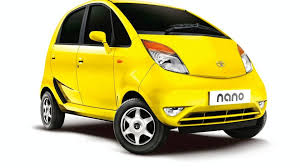Nano: (39, 1, 267, 156)
